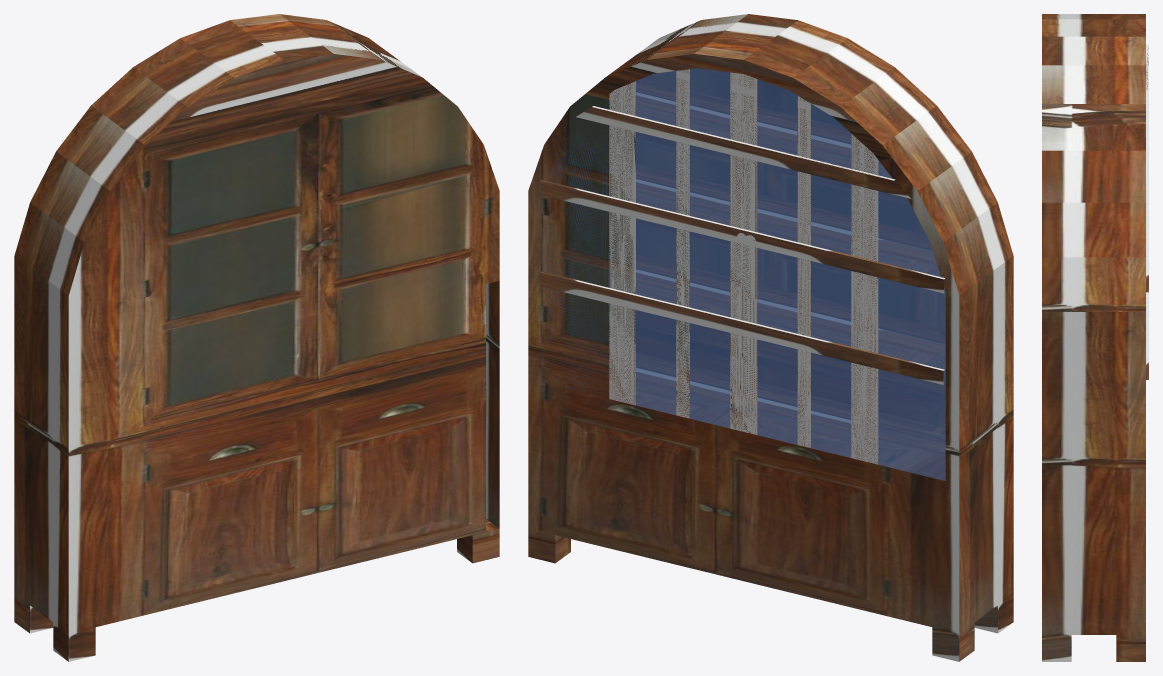
The picture shows the model from 3 angles, left to right: view 1: azimuth 30°, elevation 25°; view 2: azimuth 150°, elevation 25°; view 3: azimuth 270°, elevation 25°; orthographic projection. The views are drawn at different scales.
Parts seen in each view (by area): view 1: mesh3_mesh3-geometry; view 2: mesh3_mesh3-geometry, mesh2_mesh2-geometry, mesh1_mesh1-geometry; view 3: mesh3_mesh3-geometry, mesh2_mesh2-geometry, mesh1_mesh1-geometry.
Boxes of the visible parts, box(x1,y1,x2,y2) form: mesh3_mesh3-geometry: box(14, 14, 499, 661); mesh3_mesh3-geometry: box(528, 14, 1013, 661); mesh2_mesh2-geometry: box(539, 180, 944, 384); mesh1_mesh1-geometry: box(576, 106, 911, 198); mesh3_mesh3-geometry: box(1042, 14, 1145, 661); mesh2_mesh2-geometry: box(1146, 185, 1148, 379); mesh1_mesh1-geometry: box(1146, 44, 1148, 185).
Bounding box in the file's own units: 0.4886 × 0.5955 × 0.1099.
